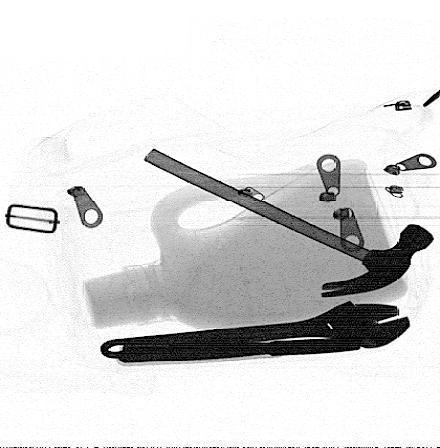Hammer: (143, 147, 435, 299)
Pliers: (122, 328, 386, 372)
Wrench: (97, 300, 409, 360)
